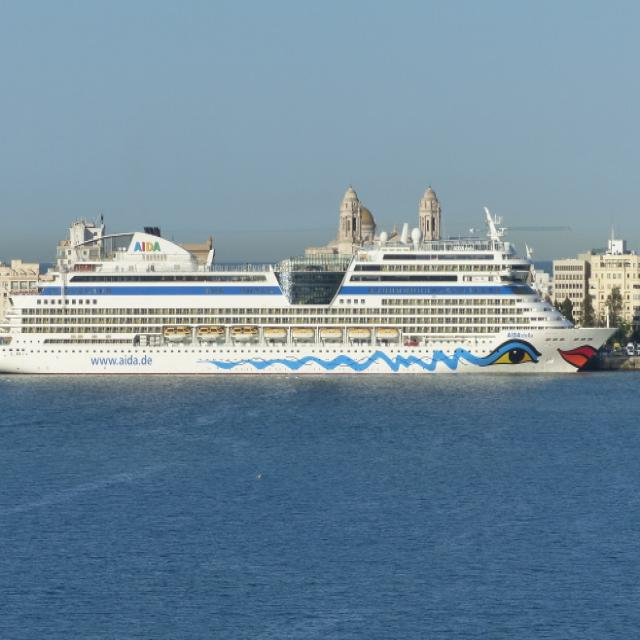cruises: (1, 229, 620, 381)
